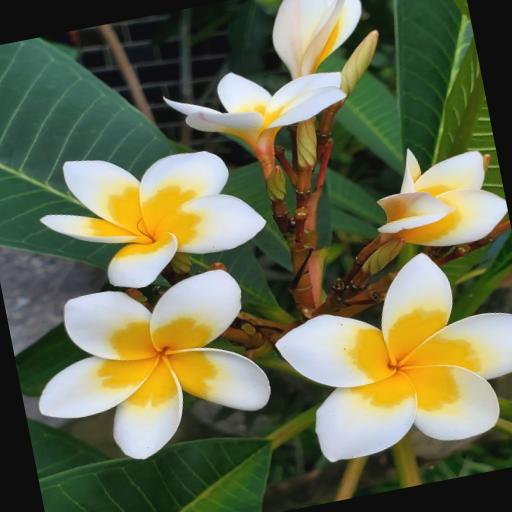Frangipani: (276, 252, 512, 465), (37, 268, 272, 459), (40, 150, 268, 289)
